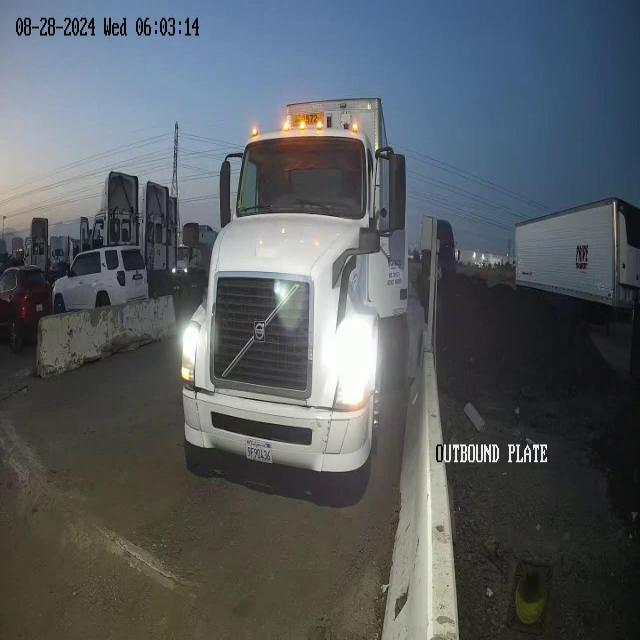TRUCK_OUT: (181, 95, 409, 477)
